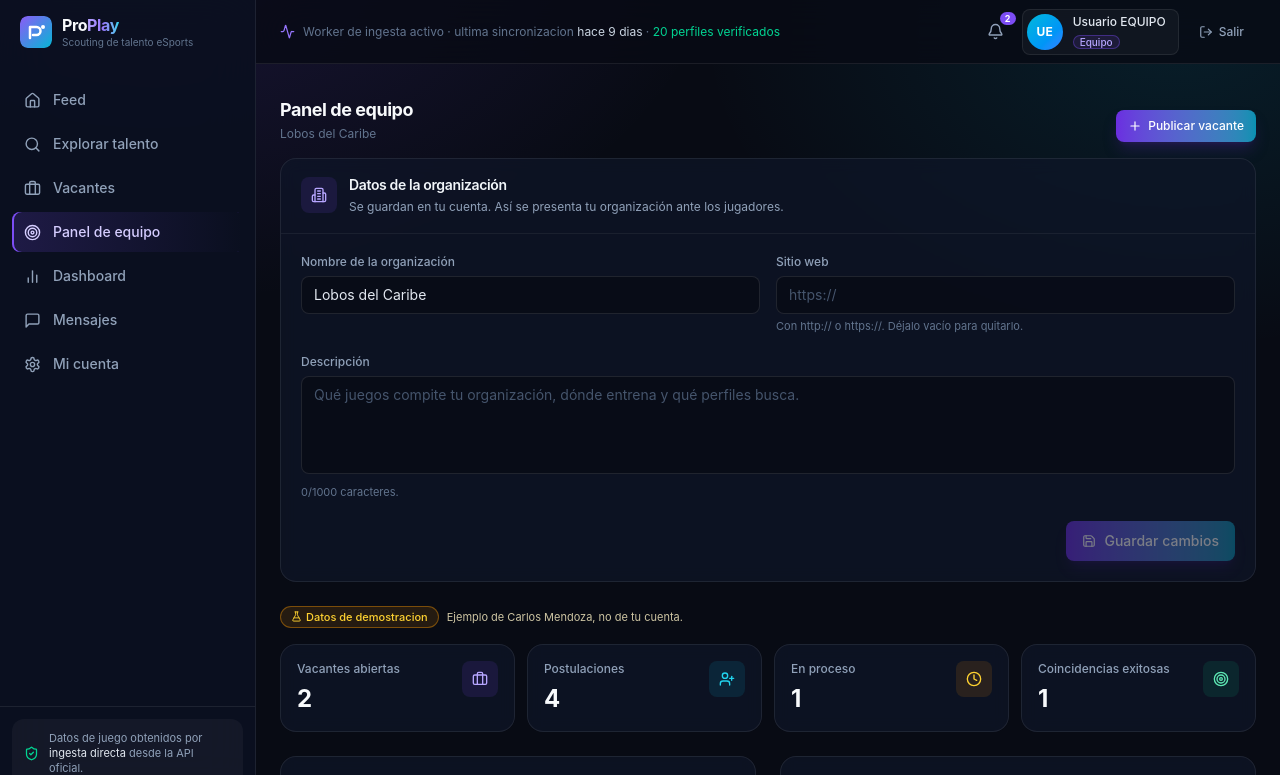
Scenario: Datos de la organización en el panel de equipo › valida que el nombre tenga al menos dos caracteres
The image size is (1280, 775).
Replace the text in the field labelled "Nombre de la organización" with "L" at (530, 294), box [301, 276, 760, 314]
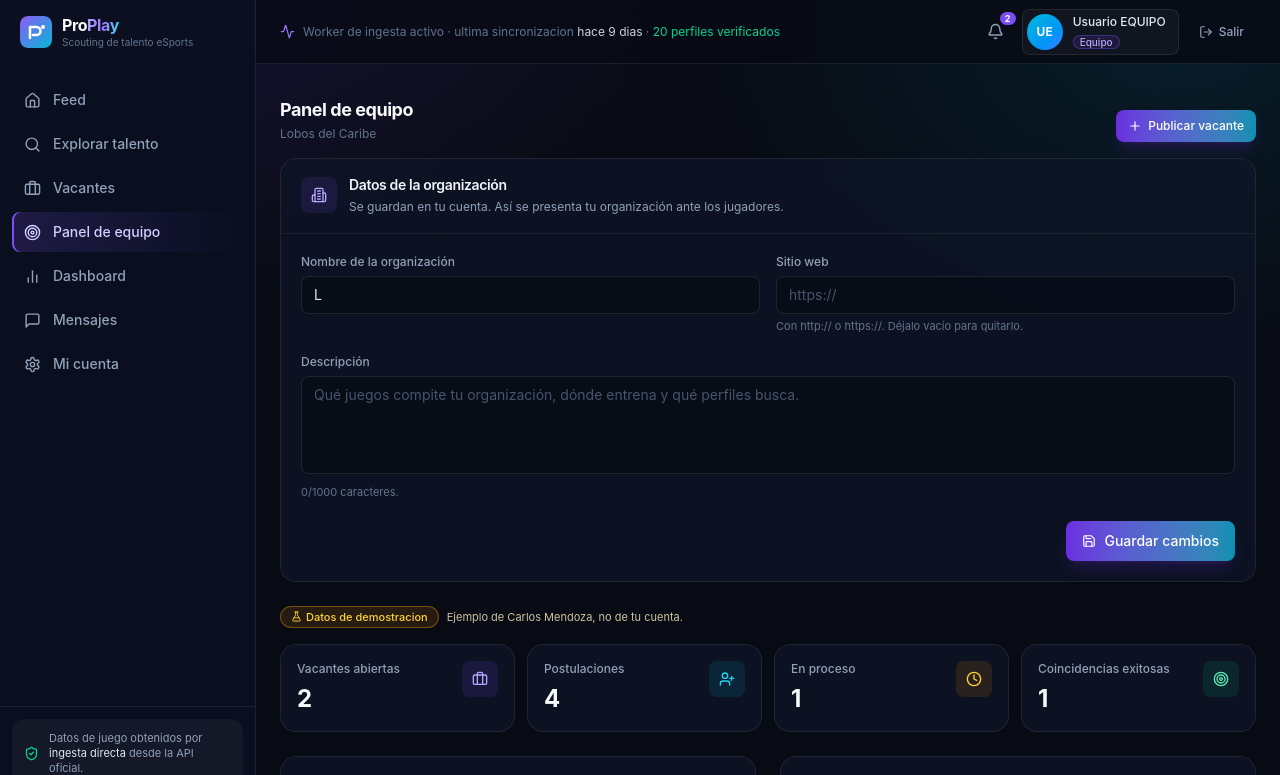
Click the button "Guardar cambios".
click(1151, 540)  # box [1066, 520, 1235, 560]
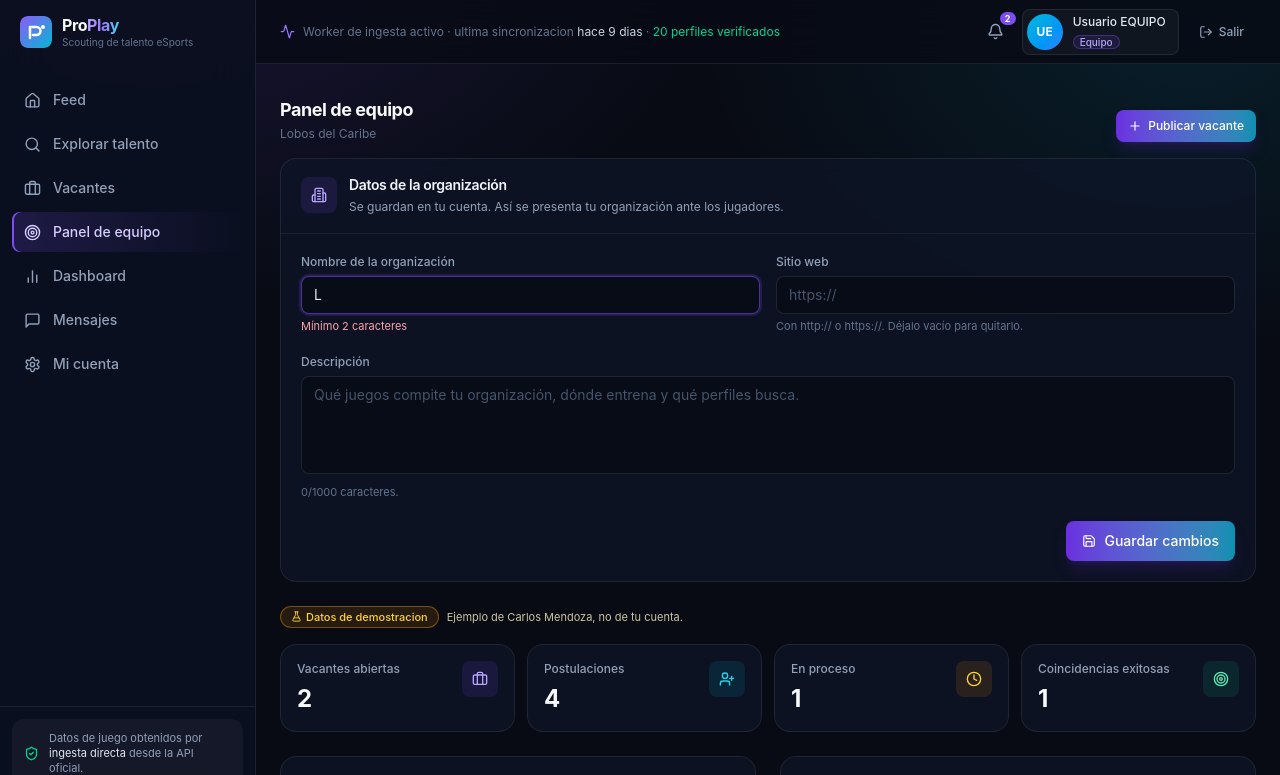
expect the text "Mínimo 2 caracteres" is shown: met, box [301, 318, 407, 332]
